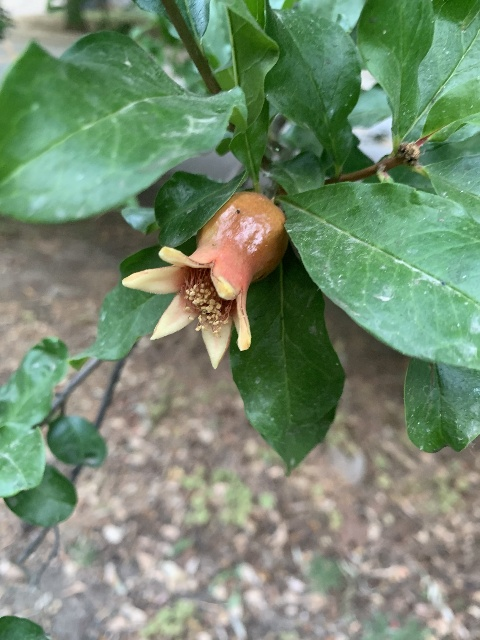early-fruit: (120, 191, 288, 371)
